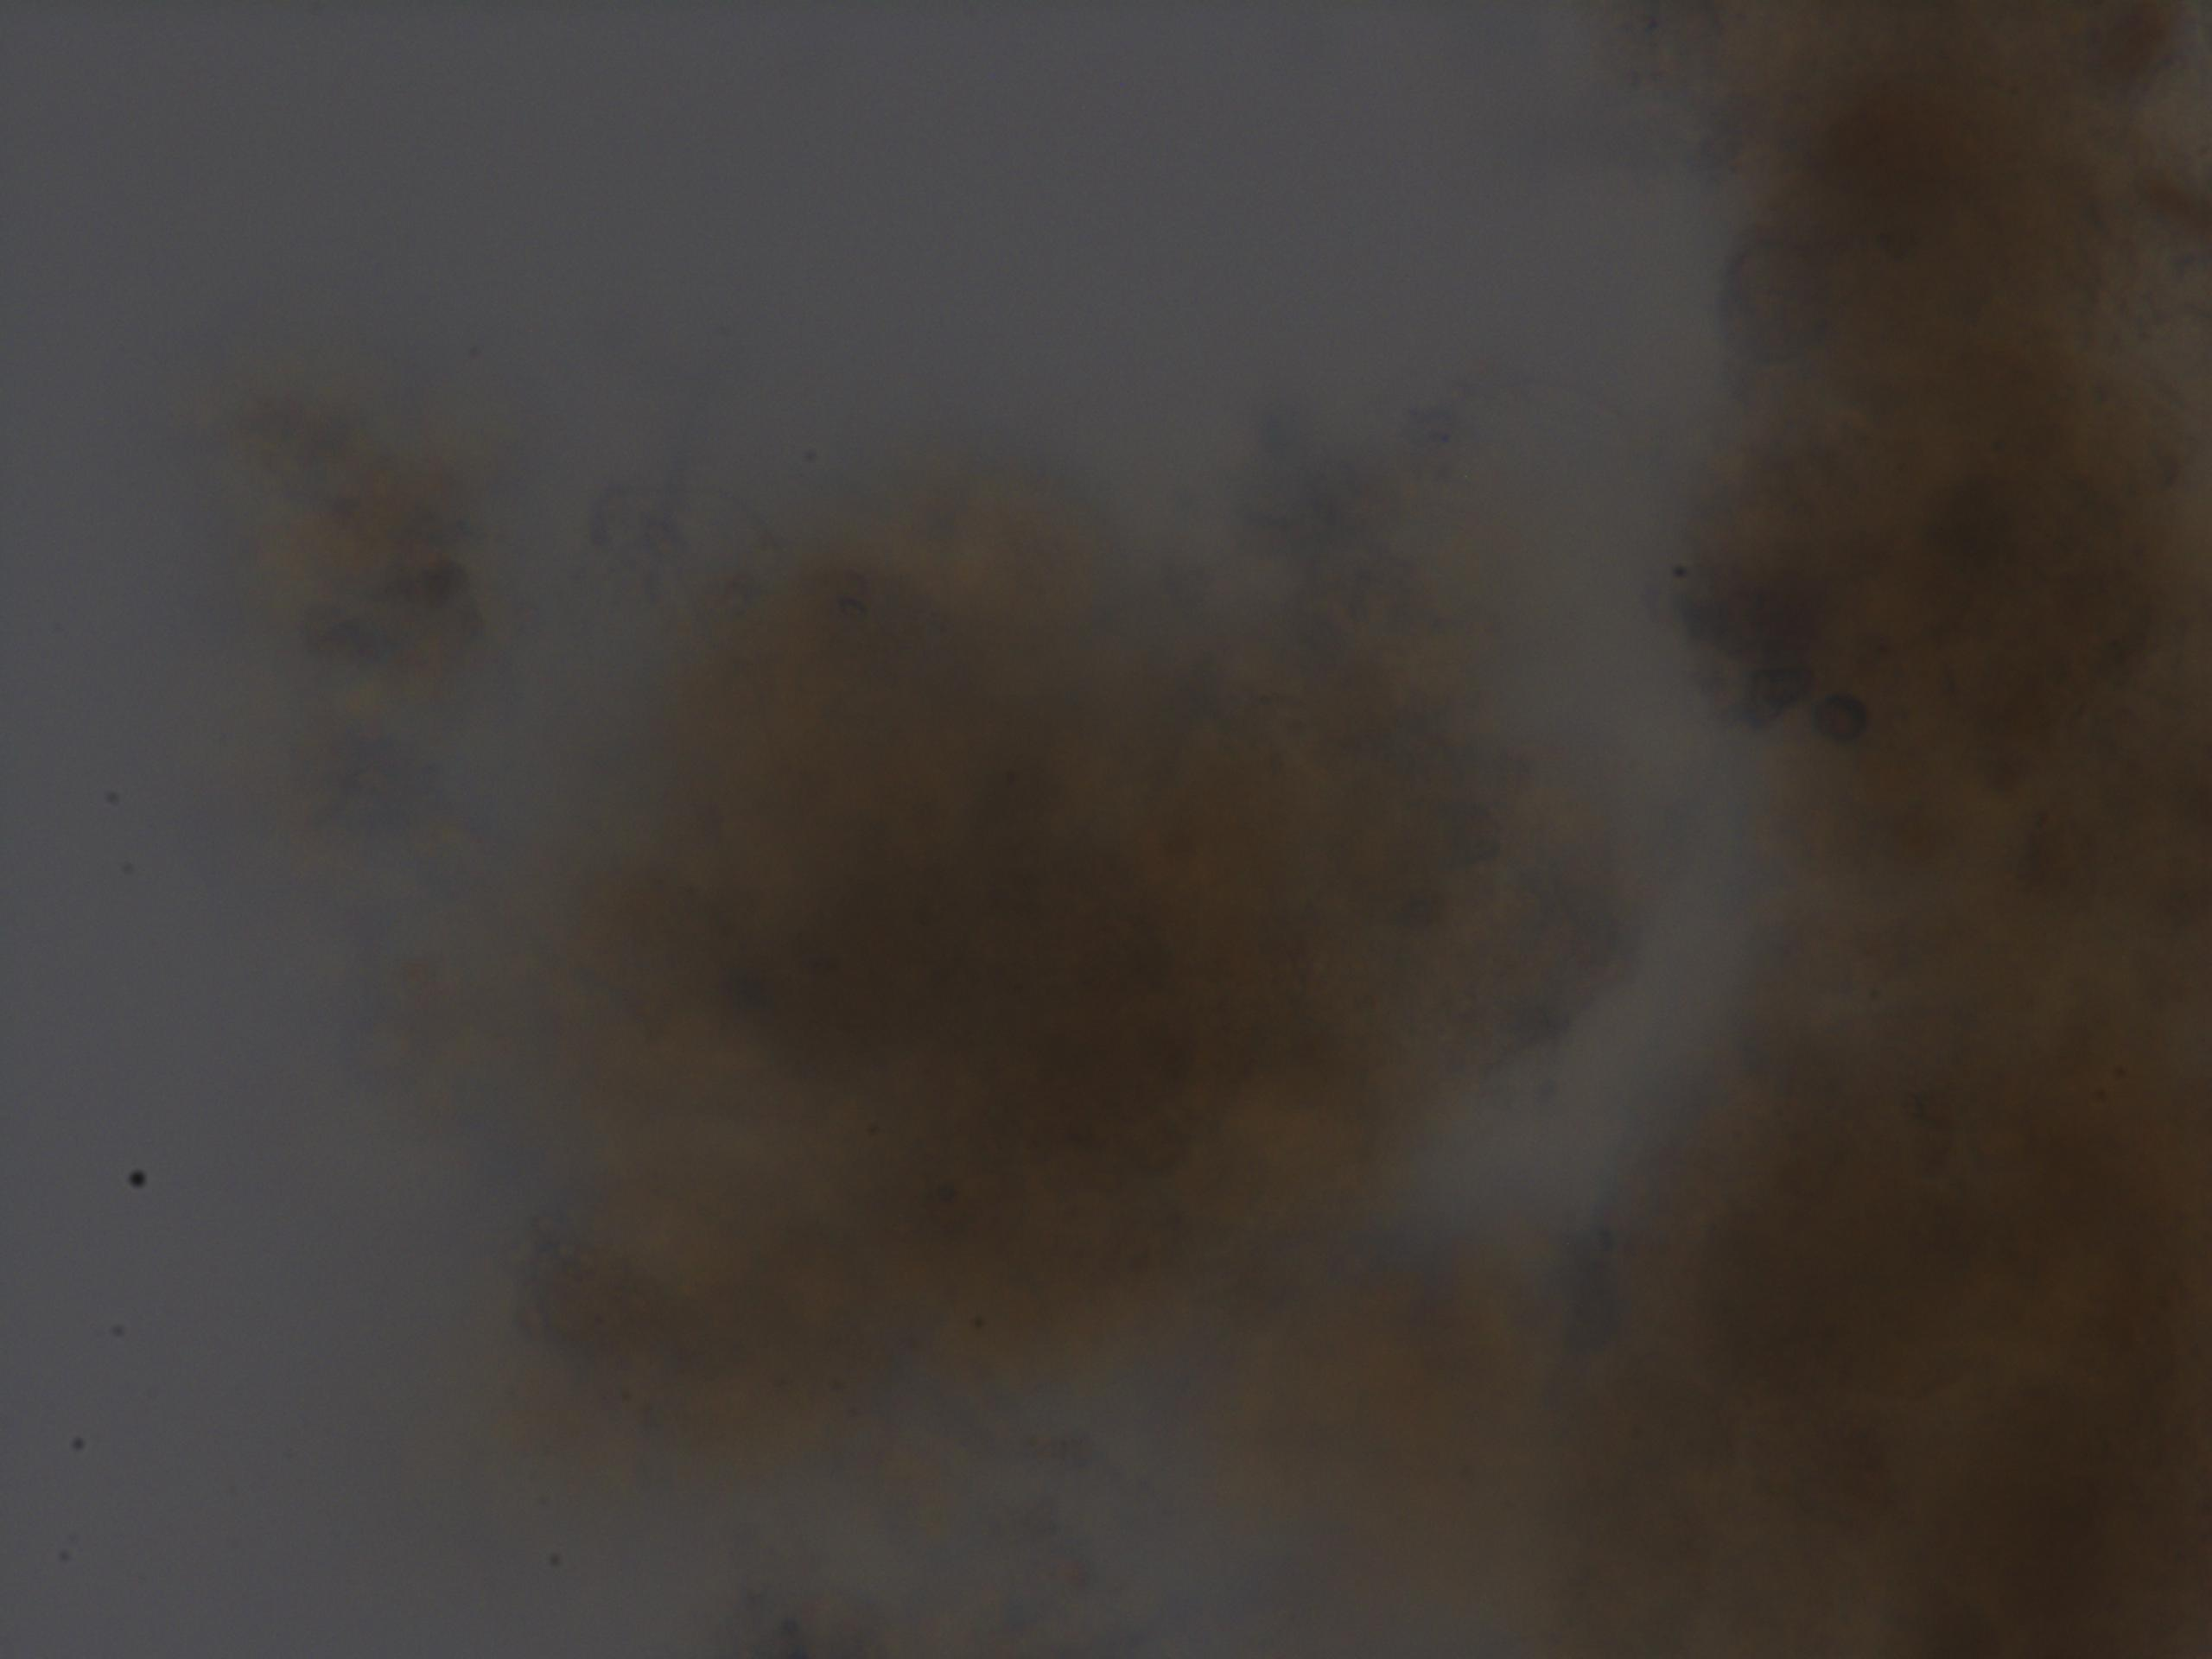spherical_floc: (465, 455, 1634, 1495)
